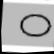no answer: (16, 9, 54, 40)
